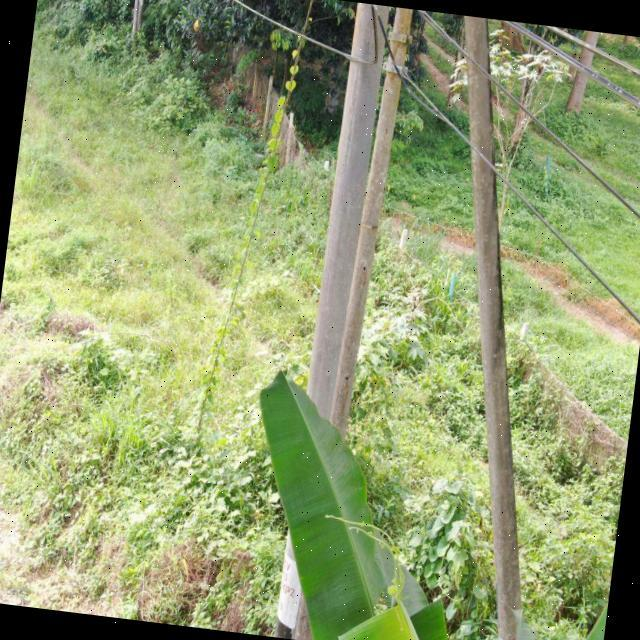critical vegetation: (188, 6, 321, 455)
